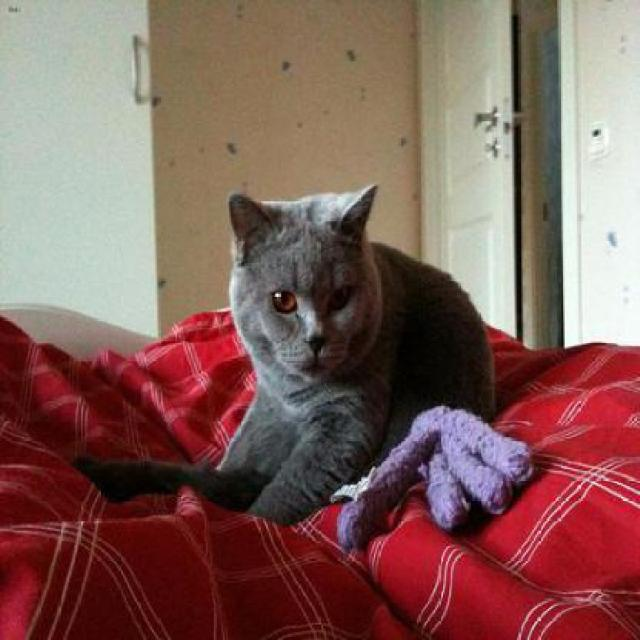cat: (69, 183, 494, 529)
